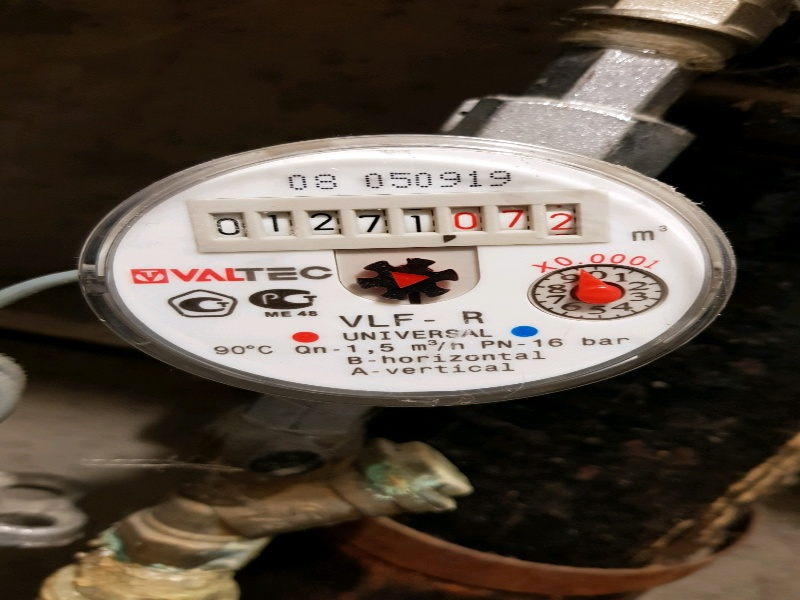meter: (203, 201, 596, 245)
